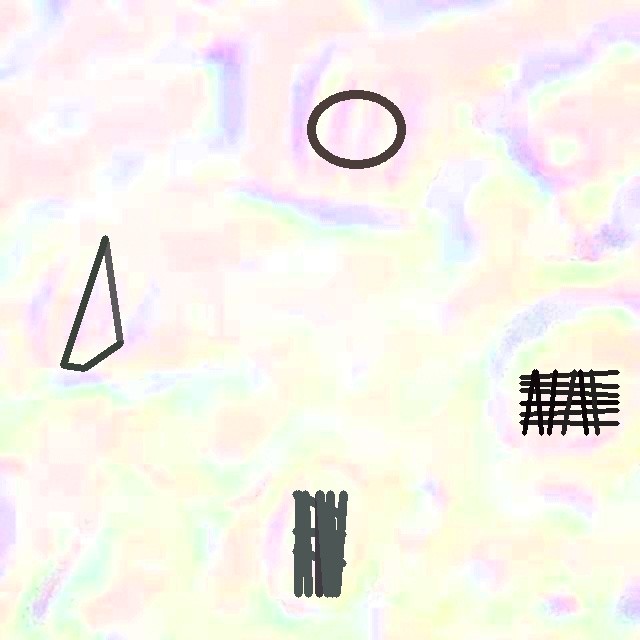close: (60, 235, 123, 371), (306, 90, 406, 169), (519, 369, 619, 435), (292, 490, 346, 597)
